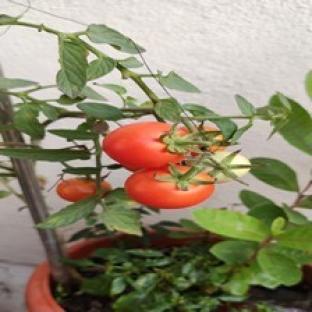Tomato: (102, 122, 185, 168), (126, 168, 214, 208), (211, 151, 250, 182), (56, 179, 97, 201), (198, 126, 225, 151)
